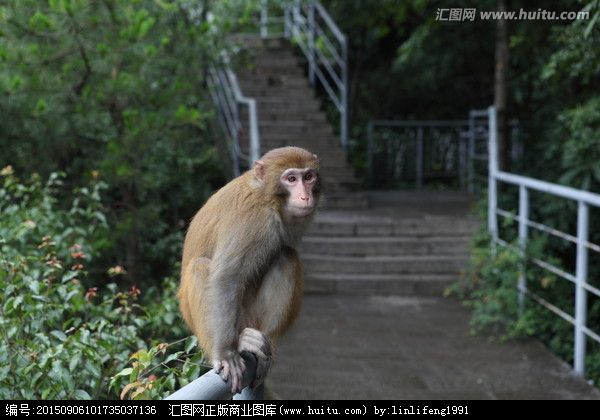monkey: (167, 136, 326, 385)
